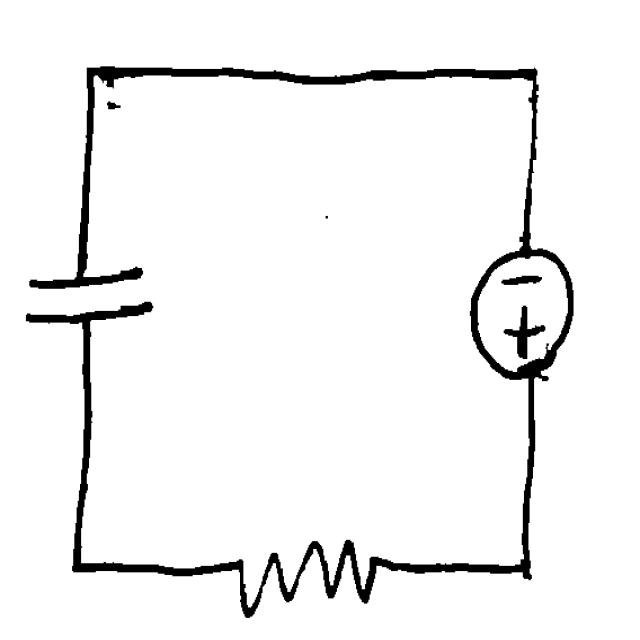capacitor: (12, 258, 161, 336)
dc: (458, 230, 589, 389)
resistor: (220, 521, 390, 625)
